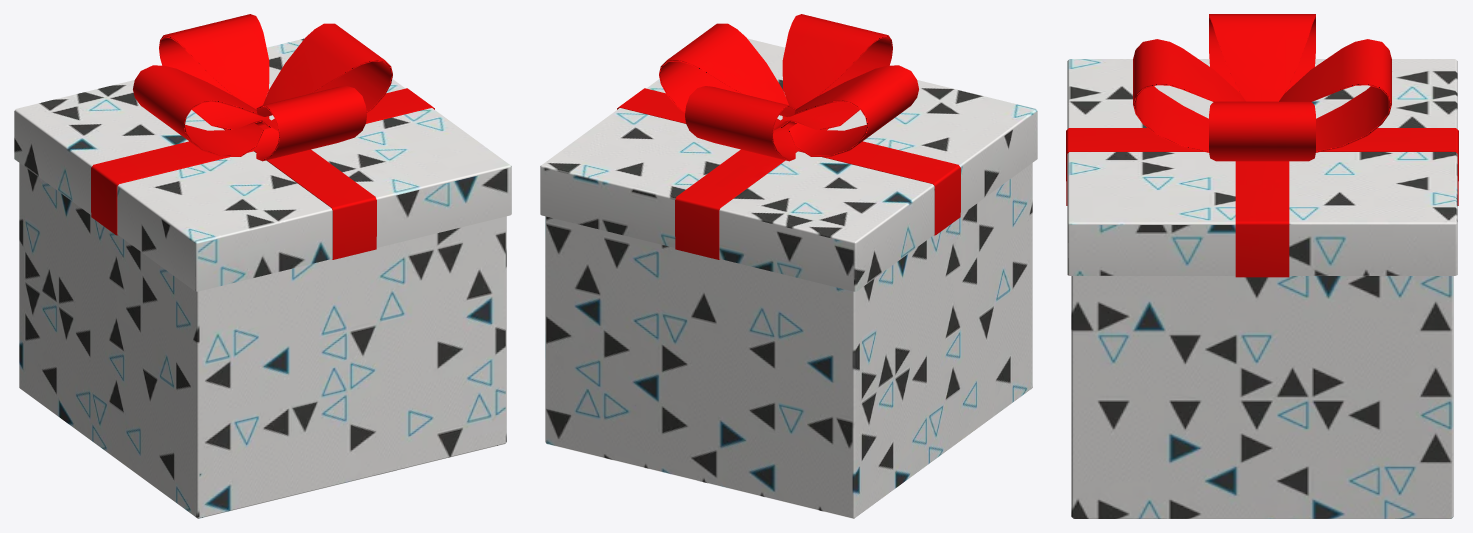
File: gift-three.glb
The picture shows the model from 3 angles, left to right: view 1: azimuth 30°, elevation 25°; view 2: azimuth 150°, elevation 25°; view 3: azimuth 270°, elevation 25°; orthographic projection. The views are drawn at different scales.
Visible parts, largest first — view 1: defaultMaterial (×3); view 2: defaultMaterial (×3); view 3: defaultMaterial (×3).
Part boxes in pixels (x1,y1,x2,y2): defaultMaterial (×3): (14,14,511,518); defaultMaterial (×3): (540,14,1037,518); defaultMaterial (×3): (1066,14,1458,518).
Size of the model in its own units: 1.88 by 2 by 1.88.
3 materials, 3 textured.
